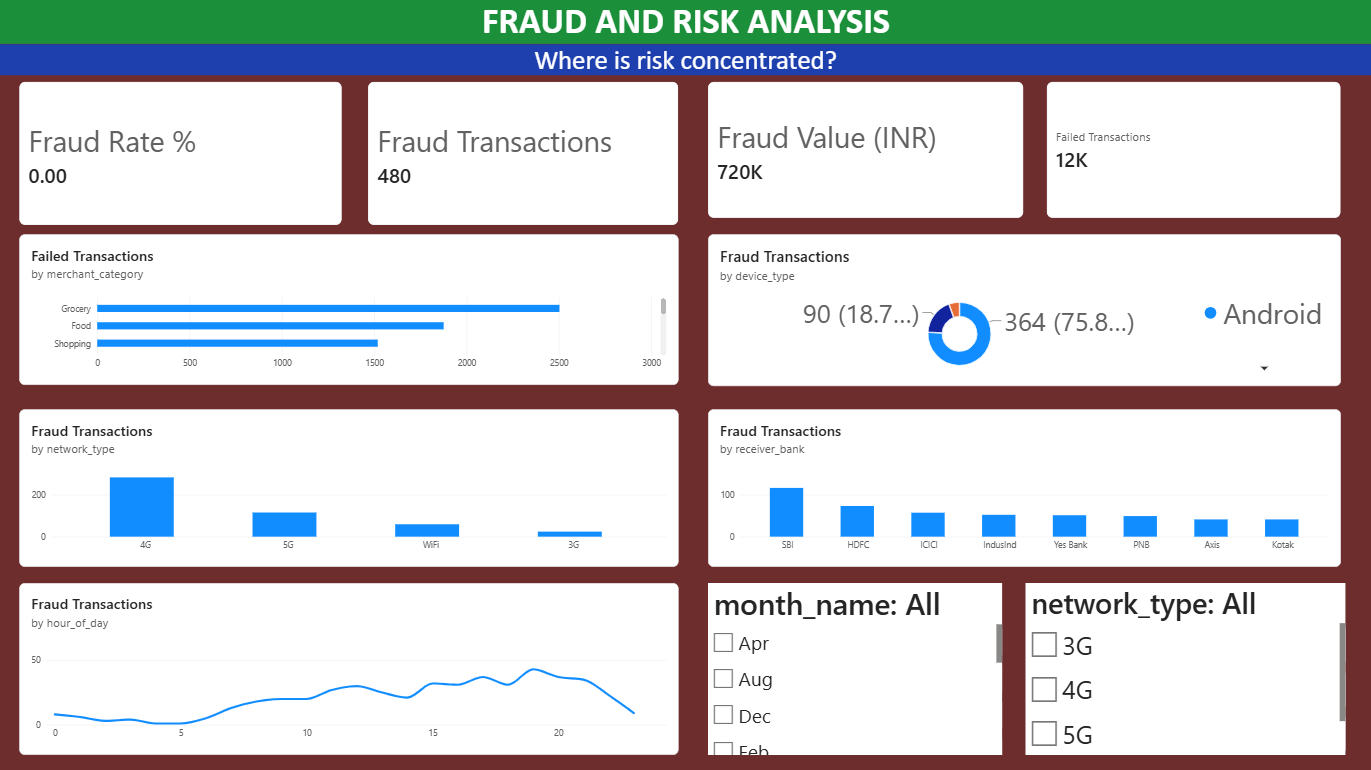

What the dashboard file says about the page in this screenshot:
{"tool":"powerbi","page":{"name":"Fraud & Risk Analysis","canvas":[1920,1080],"ordinal":2},"visuals":[{"type":"textbox","title":"FRAUD AND RISK ANALYSIS","box":[0,0,1920,64],"z":0},{"type":"cardVisual","fields":{"Data":["DateTable.Fraud Rate %"]},"box":[30,116.7,450,200],"z":1000},{"type":"cardVisual","fields":{"Data":["DateTable.Fraud Transactions"]},"box":[516.7,116.7,433.3,200],"z":2000},{"type":"cardVisual","fields":{"Data":["DateTable.Fraud Value (INR)"]},"box":[990,116.7,440,190],"z":3000},{"type":"cardVisual","fields":{"Data":["DateTable.Failed Transactions"]},"box":[1463.3,116.7,410,190],"z":4000},{"type":"clusteredBarChart","fields":{"Category":["upi_transactions_2024_powerbi.merchant_category"],"Y":["DateTable.Failed Transactions"]},"box":[30,330,920,210],"z":5000},{"type":"donutChart","fields":{"Category":["upi_transactions_2024_powerbi.device_type"],"Y":["DateTable.Fraud Transactions"]},"box":[990,330,883.3,212],"z":6000},{"type":"clusteredColumnChart","fields":{"Category":["upi_transactions_2024_powerbi.network_type"],"Y":["DateTable.Fraud Transactions"]},"box":[30,573.3,920,220],"z":7000},{"type":"clusteredColumnChart","fields":{"Category":["upi_transactions_2024_powerbi.receiver_bank"],"Y":["DateTable.Fraud Transactions"]},"box":[990,573.3,883.3,220],"z":8000},{"type":"lineChart","fields":{"Category":["upi_transactions_2024_powerbi.hour_of_day"],"Y":["DateTable.Fraud Transactions"]},"box":[30,816.7,920,240],"z":9000},{"type":"slicer","fields":{"Values":["upi_transactions_2024_powerbi.month_name"]},"box":[990,816.7,410,240],"z":10000},{"type":"slicer","fields":{"Values":["upi_transactions_2024_powerbi.network_type"]},"box":[1433.3,816.7,446.7,240],"z":11000},{"type":"textbox","title":"Where is risk concentrated?","box":[0,64.9,1918.9,43.2],"z":12000}]}

Visuals, with their boxes in screenshot pixels (x1, y1, x2, y2), scaled from the page's 1920x1080 canvas onto the 1371x770 screenshot:
"FRAUD AND RISK ANALYSIS" textbox: 0,0,1370,46
cardVisual - DateTable.Fraud Rate %: 21,83,343,226
cardVisual - DateTable.Fraud Transactions: 369,83,678,226
cardVisual - DateTable.Fraud Value (INR): 707,83,1021,219
cardVisual - DateTable.Failed Transactions: 1045,83,1338,219
clusteredBarChart - upi_transactions_2024_powerbi.merchant_category x DateTable.Failed Transactions: 21,235,678,385
donutChart - upi_transactions_2024_powerbi.device_type x DateTable.Fraud Transactions: 707,235,1338,386
clusteredColumnChart - upi_transactions_2024_powerbi.network_type x DateTable.Fraud Transactions: 21,409,678,566
clusteredColumnChart - upi_transactions_2024_powerbi.receiver_bank x DateTable.Fraud Transactions: 707,409,1338,566
lineChart - upi_transactions_2024_powerbi.hour_of_day x DateTable.Fraud Transactions: 21,582,678,753
slicer - upi_transactions_2024_powerbi.month_name: 707,582,1000,753
slicer - upi_transactions_2024_powerbi.network_type: 1023,582,1342,753
"Where is risk concentrated?" textbox: 0,46,1370,77
